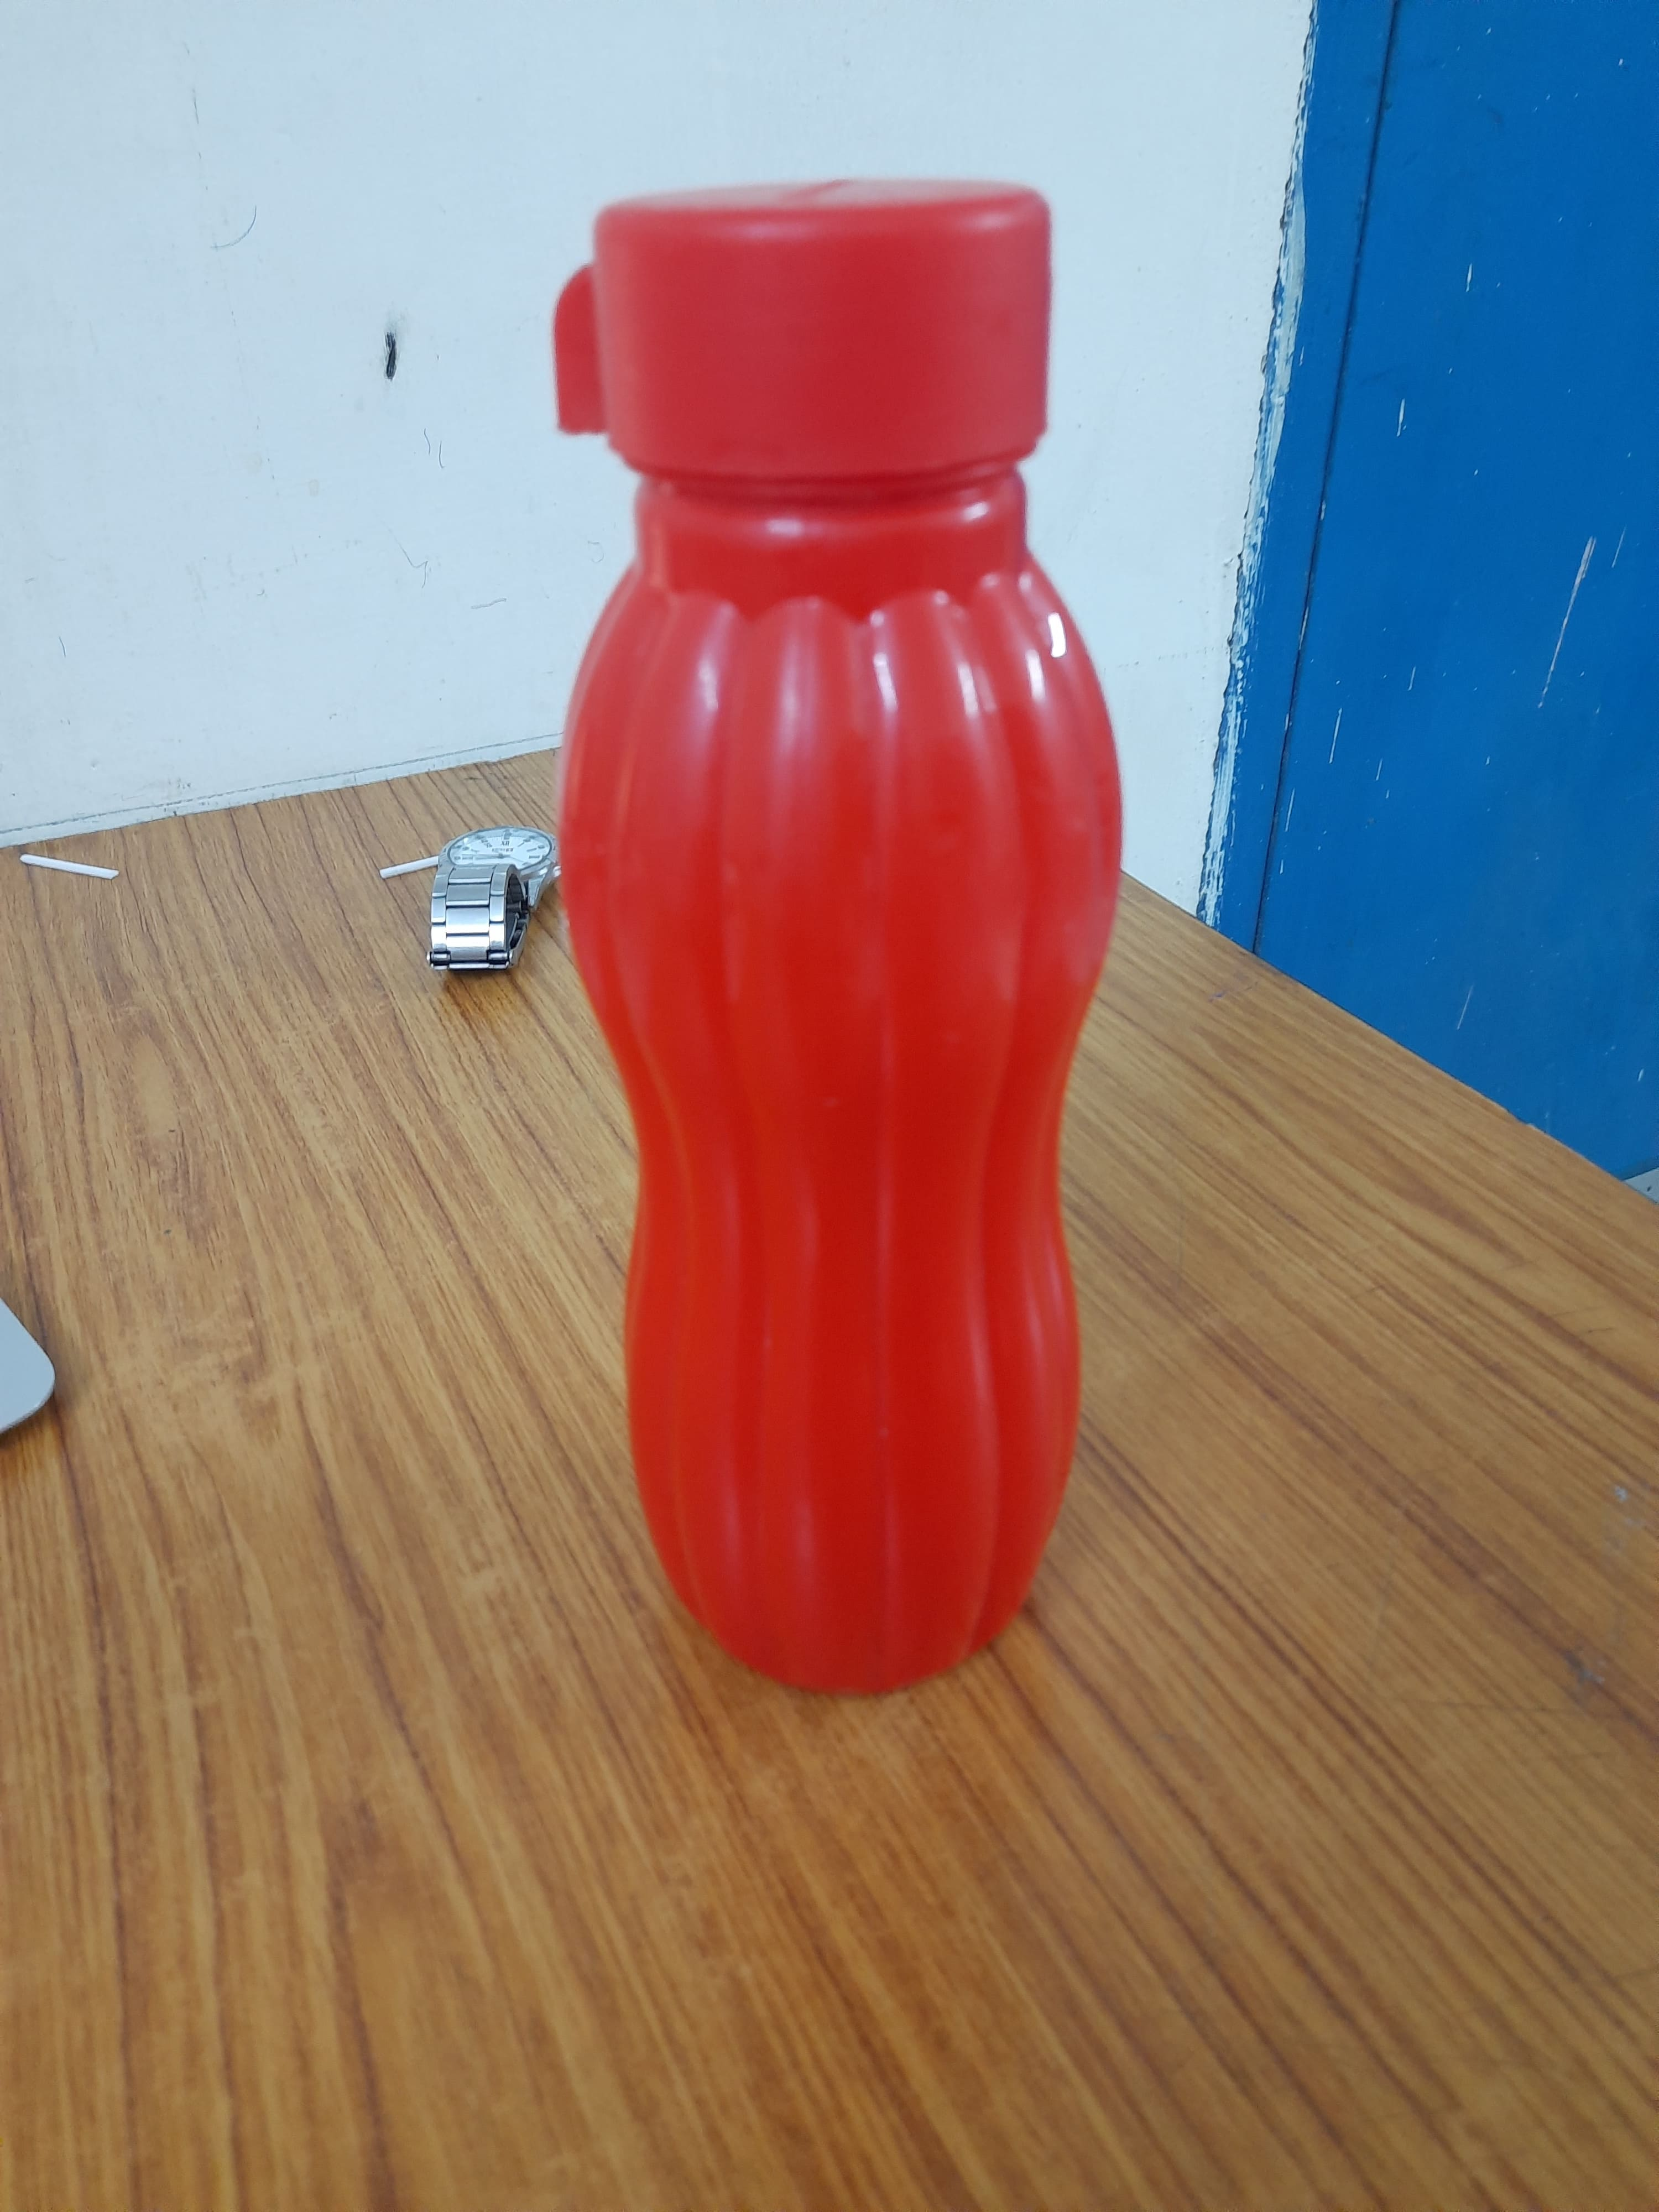Vikash's Water Bottle: (545, 169, 1107, 1717)
